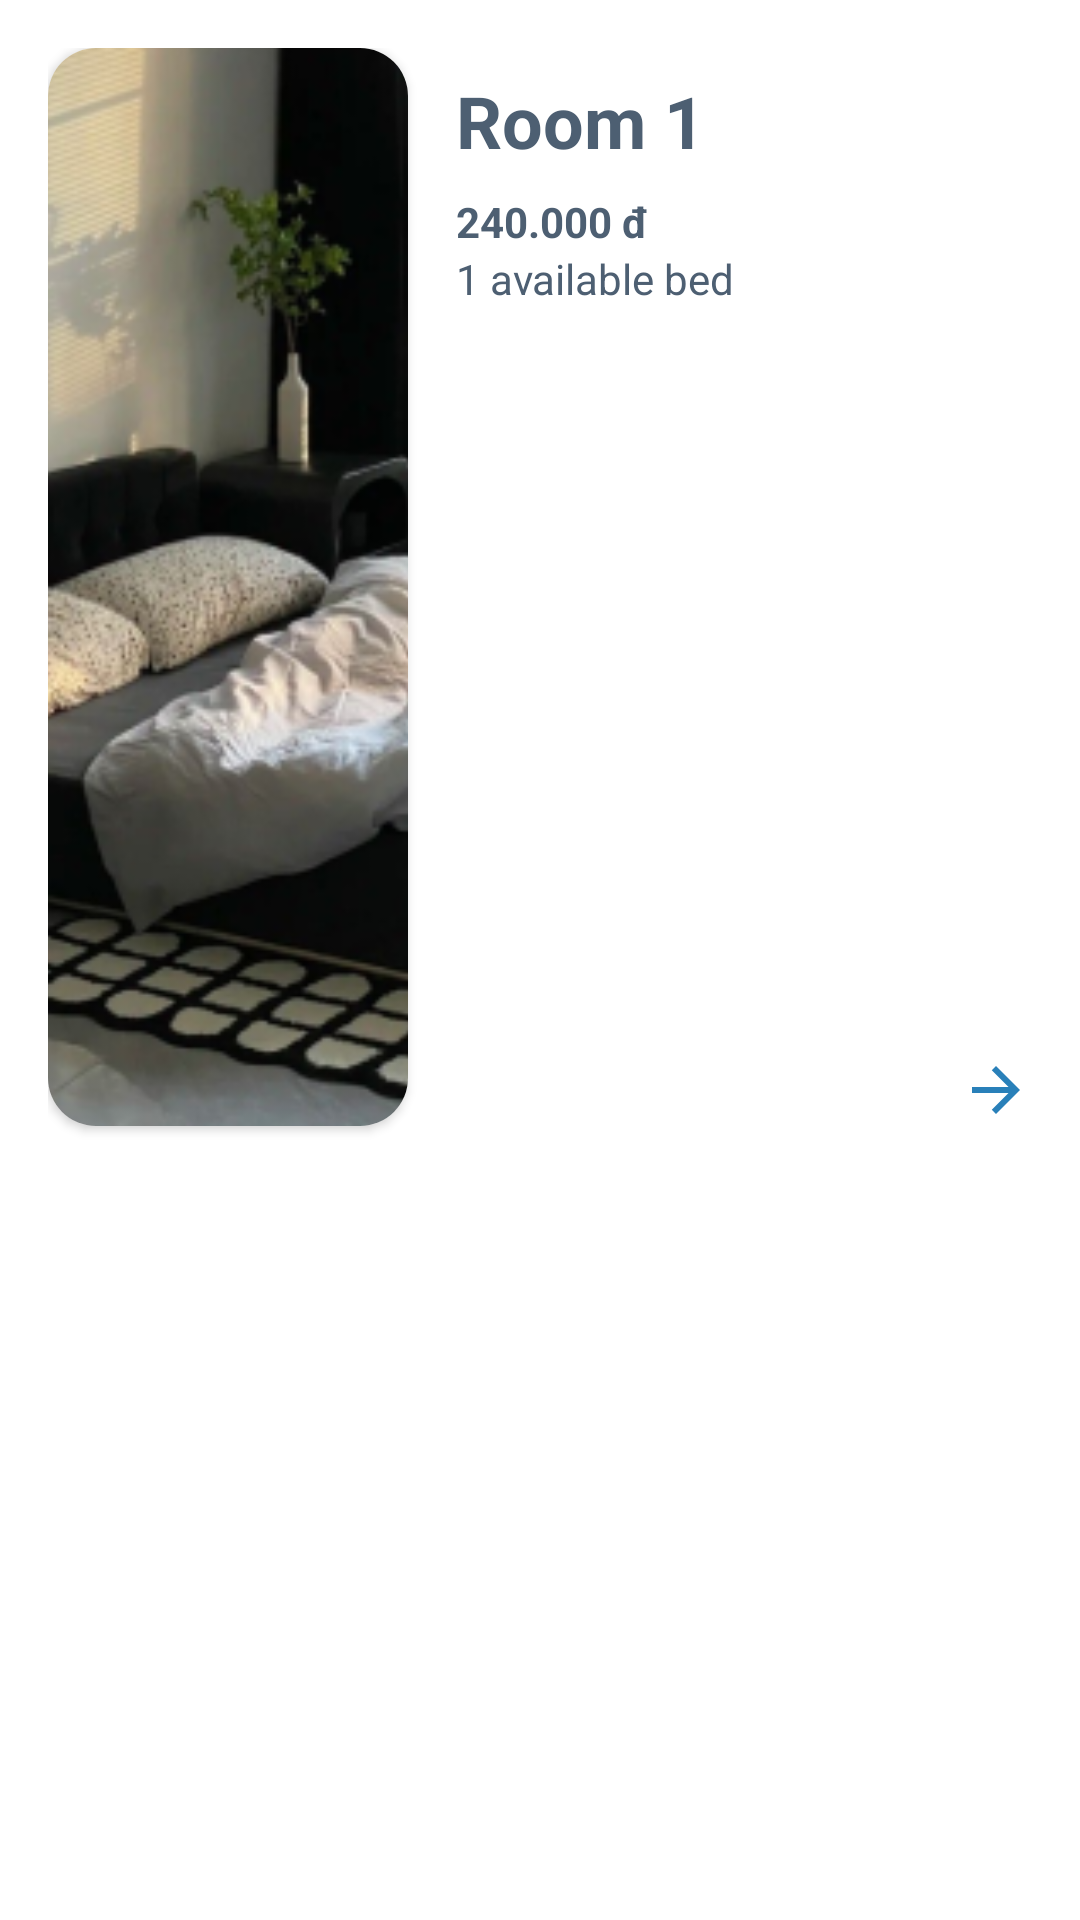

Named icons in this screenshot (1080x1920) and their centers, (x=x, y=y):
arrow forward: (x=996, y=1090)
